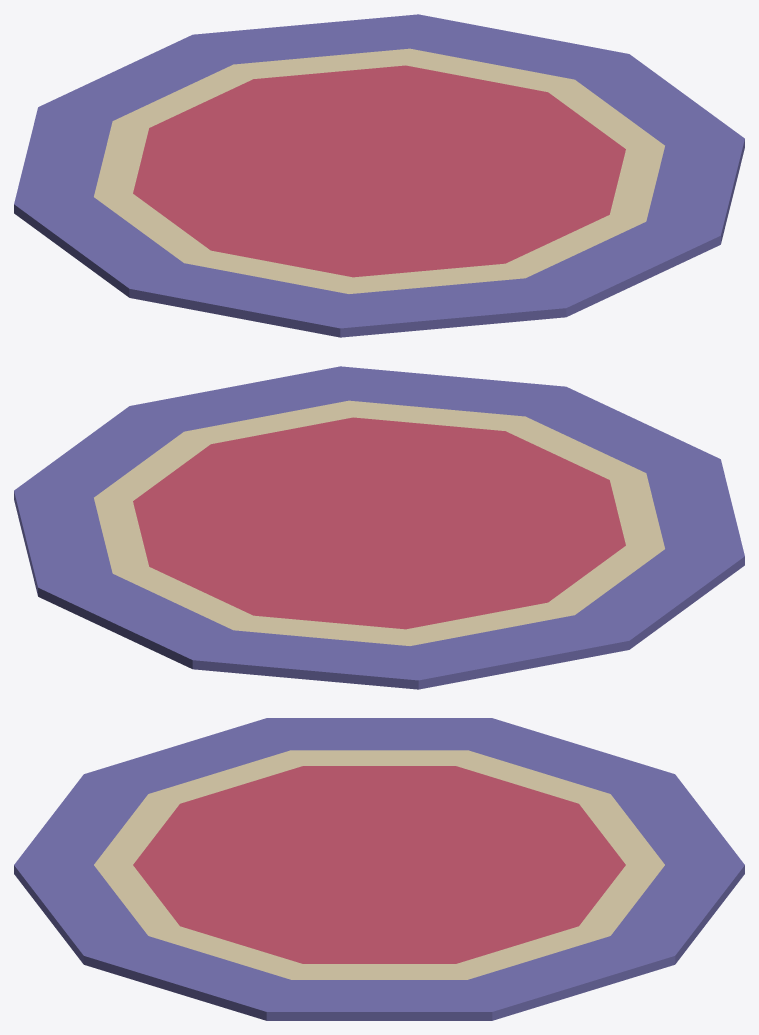
Rendered from Carpet1.glb.
3 renders of one model, top to bottom at view 1: azimuth 30°, elevation 25°; view 2: azimuth 150°, elevation 25°; view 3: azimuth 270°, elevation 25°, orthographic. The views are drawn at different scales.
Visible parts, largest first — view 1: Carpet1; view 2: Carpet1; view 3: Carpet1.
Boxes of the visible parts, x1,y1,x2,y2 form: Carpet1: (14, 14, 744, 337); Carpet1: (14, 366, 744, 689); Carpet1: (14, 718, 744, 1020).
Size of the model in its own units: 1.75 by 0.0248 by 1.84.
1 material, 1 textured.
